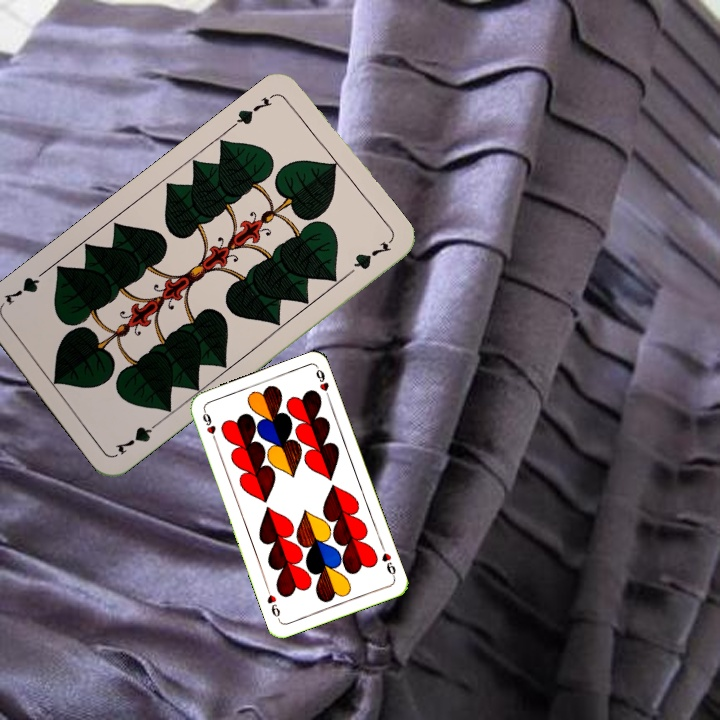G7: (111, 416, 164, 458), (228, 89, 279, 130)
H9: (198, 406, 220, 445), (377, 542, 398, 581)
